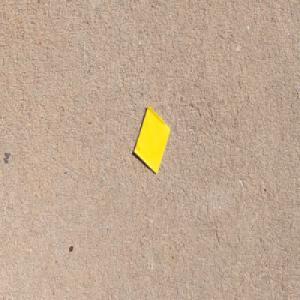PlasticPart: (133, 104, 170, 174)
